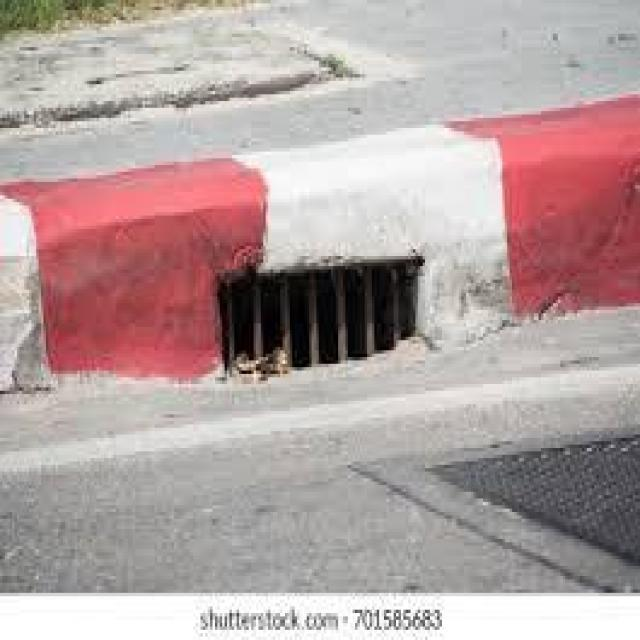curb: (2, 136, 426, 415), (431, 92, 634, 356)
